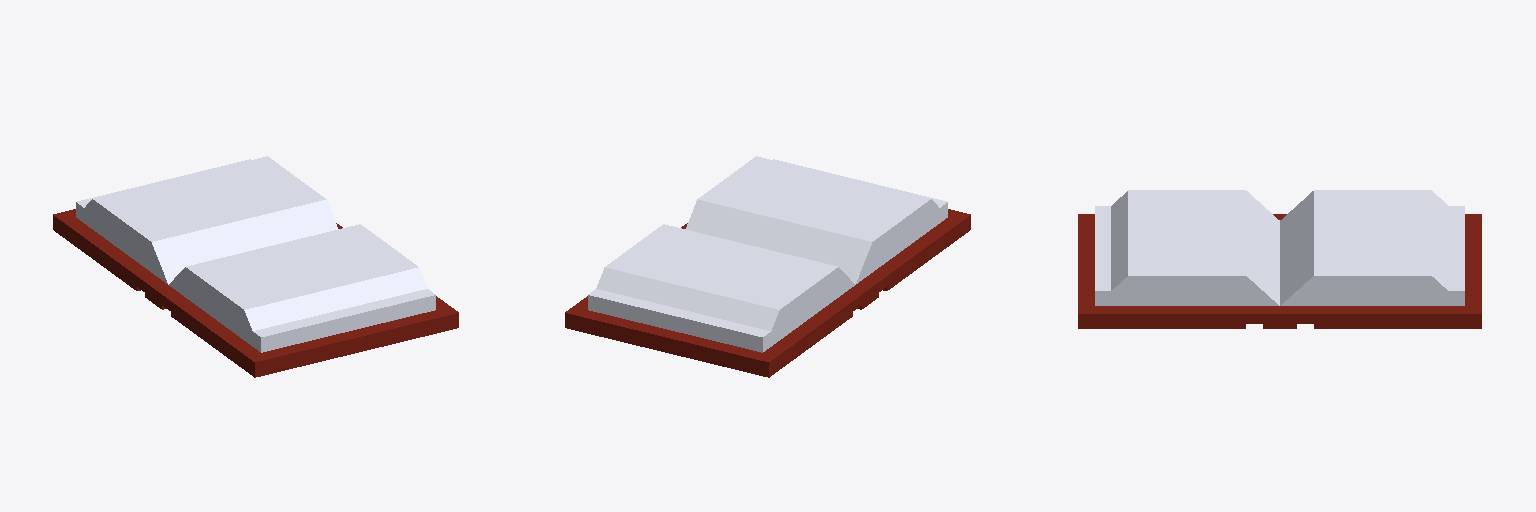
File: OpenBook2.obj
The picture shows the model from 3 angles: view 1: azimuth 30°, elevation 25°; view 2: azimuth 150°, elevation 25°; view 3: azimuth 270°, elevation 25°; orthographic projection.
Visible parts, largest first — view 1: block, wedge; view 2: block, wedge; view 3: block, wedge.
Boxes of the visible parts, x1=… form: block: x1=53, y1=156, x2=458, y2=377; wedge: x1=85, y1=199, x2=427, y2=330; block: x1=565, y1=156, x2=970, y2=377; wedge: x1=596, y1=199, x2=938, y2=330; block: x1=1078, y1=190, x2=1481, y2=328; wedge: x1=1111, y1=191, x2=1448, y2=305.
Bounding box in the file's own units: 0.252 × 0.054 × 0.432.